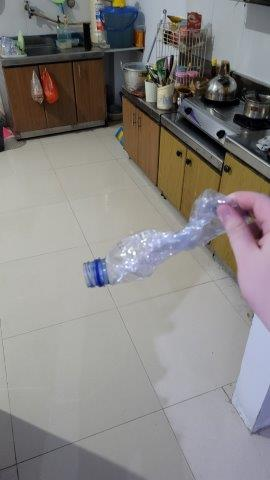botolplastik: (83, 183, 244, 286)
